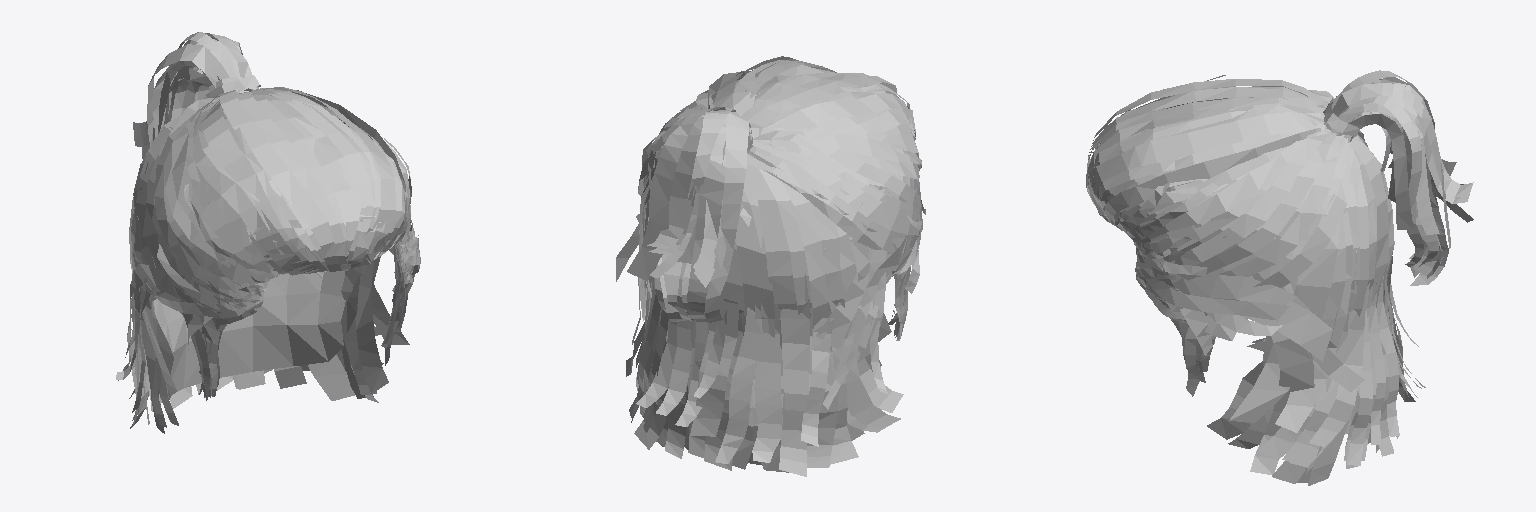
File: Male Hair08.obj
3 views of the same model, side by side, from view 1: azimuth 30°, elevation 25°; view 2: azimuth 150°, elevation 25°; view 3: azimuth 270°, elevation 25° (orthographic).
Parts seen in each view (by area): view 1: Hair08; view 2: Hair08; view 3: Hair08.
Part boxes in pixels (x1,y1,x2,y2): Hair08: (116,32,420,433); Hair08: (616,56,925,476); Hair08: (1086,70,1473,485).
Bounding box in the file's own units: 18.32 × 24.33 × 23.63.